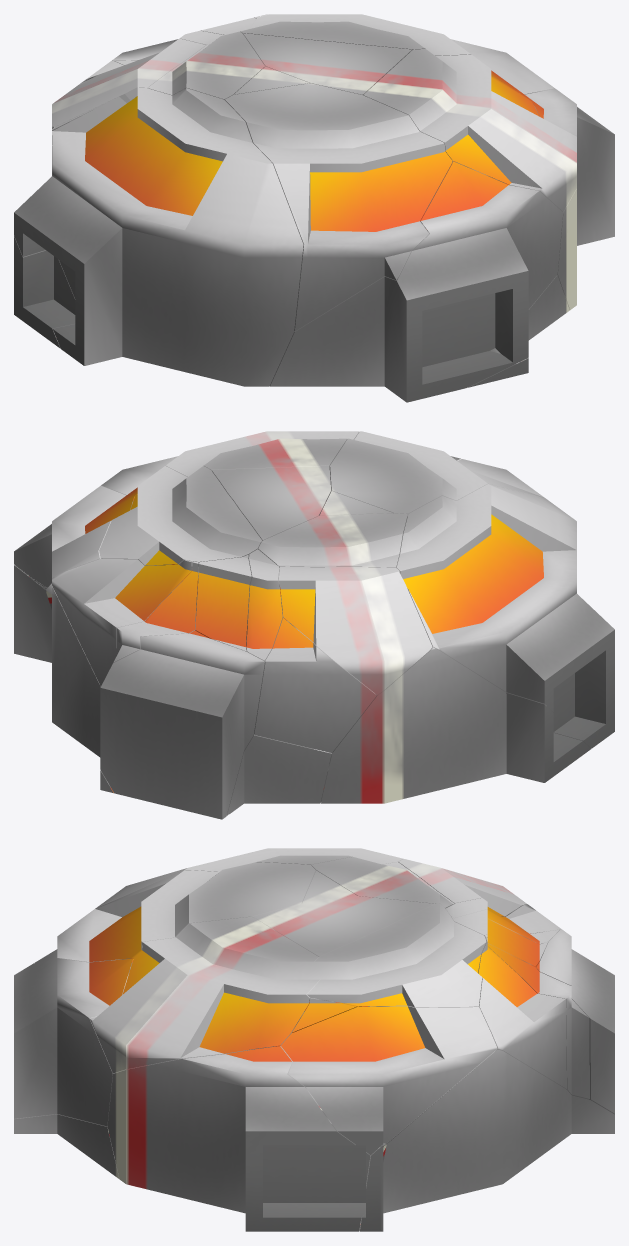
The model's file is Bunker_broke.fbx.
The picture shows the model from 3 angles, top to bottom: view 1: azimuth 30°, elevation 25°; view 2: azimuth 150°, elevation 25°; view 3: azimuth 270°, elevation 25°; orthographic projection.
Parts seen in each view (by area): view 1: Bpart_7, Bpart_13, Bpart_10, Bpart_30, Bpart_22, Bpart_12, Bpart_25, Bpart_3, Bpart_11, Bpart_28, Bpart_18, Bpart_8 (+2 smaller); view 2: Bpart_7, Bpart_3, Bpart_5, Bpart_28, Bpart_25, Bpart_27, Bpart_10, Bpart_24, Bpart_4, Bpart_11, Bpart_12, Bpart_8 (+7 smaller); view 3: Bpart_22, Bpart_30, Bpart_4, Bpart_8, Bpart_13, Bpart_10, Bpart_25, Bpart_24, Bpart_5, Bpart_12, Bpart_11, Bpart_23 (+8 smaller).
Part boxes in pixels (left/top/right/bottom): Bpart_7: left=14, top=87, right=303, bottom=386; Bpart_13: left=270, top=161, right=563, bottom=402; Bpart_10: left=225, top=83, right=452, bottom=331; Bpart_30: left=363, top=49, right=576, bottom=211; Bpart_22: left=519, top=88, right=614, bottom=309; Bpart_12: left=243, top=33, right=411, bottom=94; Bpart_25: left=240, top=14, right=470, bottom=55; Bpart_3: left=14, top=126, right=75, bottom=348; Bpart_11: left=148, top=31, right=265, bottom=99; Bpart_28: left=52, top=38, right=205, bottom=126; Bpart_18: left=468, top=275, right=569, bottom=387; Bpart_8: left=451, top=39, right=554, bottom=94; Bpart_7: left=396, top=484, right=614, bottom=748; Bpart_3: left=321, top=647, right=590, bottom=803; Bpart_5: left=100, top=630, right=264, bottom=819; Bpart_28: left=278, top=566, right=432, bottom=694; Bpart_25: left=99, top=466, right=262, bottom=567; Bpart_27: left=254, top=618, right=376, bottom=752; Bpart_10: left=319, top=431, right=546, bottom=516; Bpart_24: left=52, top=559, right=198, bottom=686; Bpart_4: left=14, top=565, right=113, bottom=793; Bpart_11: left=258, top=513, right=407, bottom=567; Bpart_12: left=211, top=465, right=330, bottom=540; Bpart_8: left=14, top=485, right=137, bottom=589; Bpart_22: left=107, top=1046, right=387, bottom=1231; Bpart_30: left=90, top=916, right=320, bottom=1073; Bpart_4: left=360, top=1049, right=614, bottom=1231; Bpart_8: left=281, top=1005, right=497, bottom=1155; Bpart_13: left=14, top=958, right=133, bottom=1126; Bpart_10: left=35, top=862, right=315, bottom=963; Bpart_25: left=307, top=903, right=486, bottom=1007; Bpart_24: left=478, top=937, right=566, bottom=1089; Bpart_5: left=536, top=929, right=614, bottom=1114; Bpart_12: left=253, top=896, right=434, bottom=956; Bpart_11: left=311, top=857, right=454, bottom=908; Bpart_23: left=484, top=935, right=589, bottom=1099.
Size of the model in its own units: 23.5 by 8.46 by 23.5.
